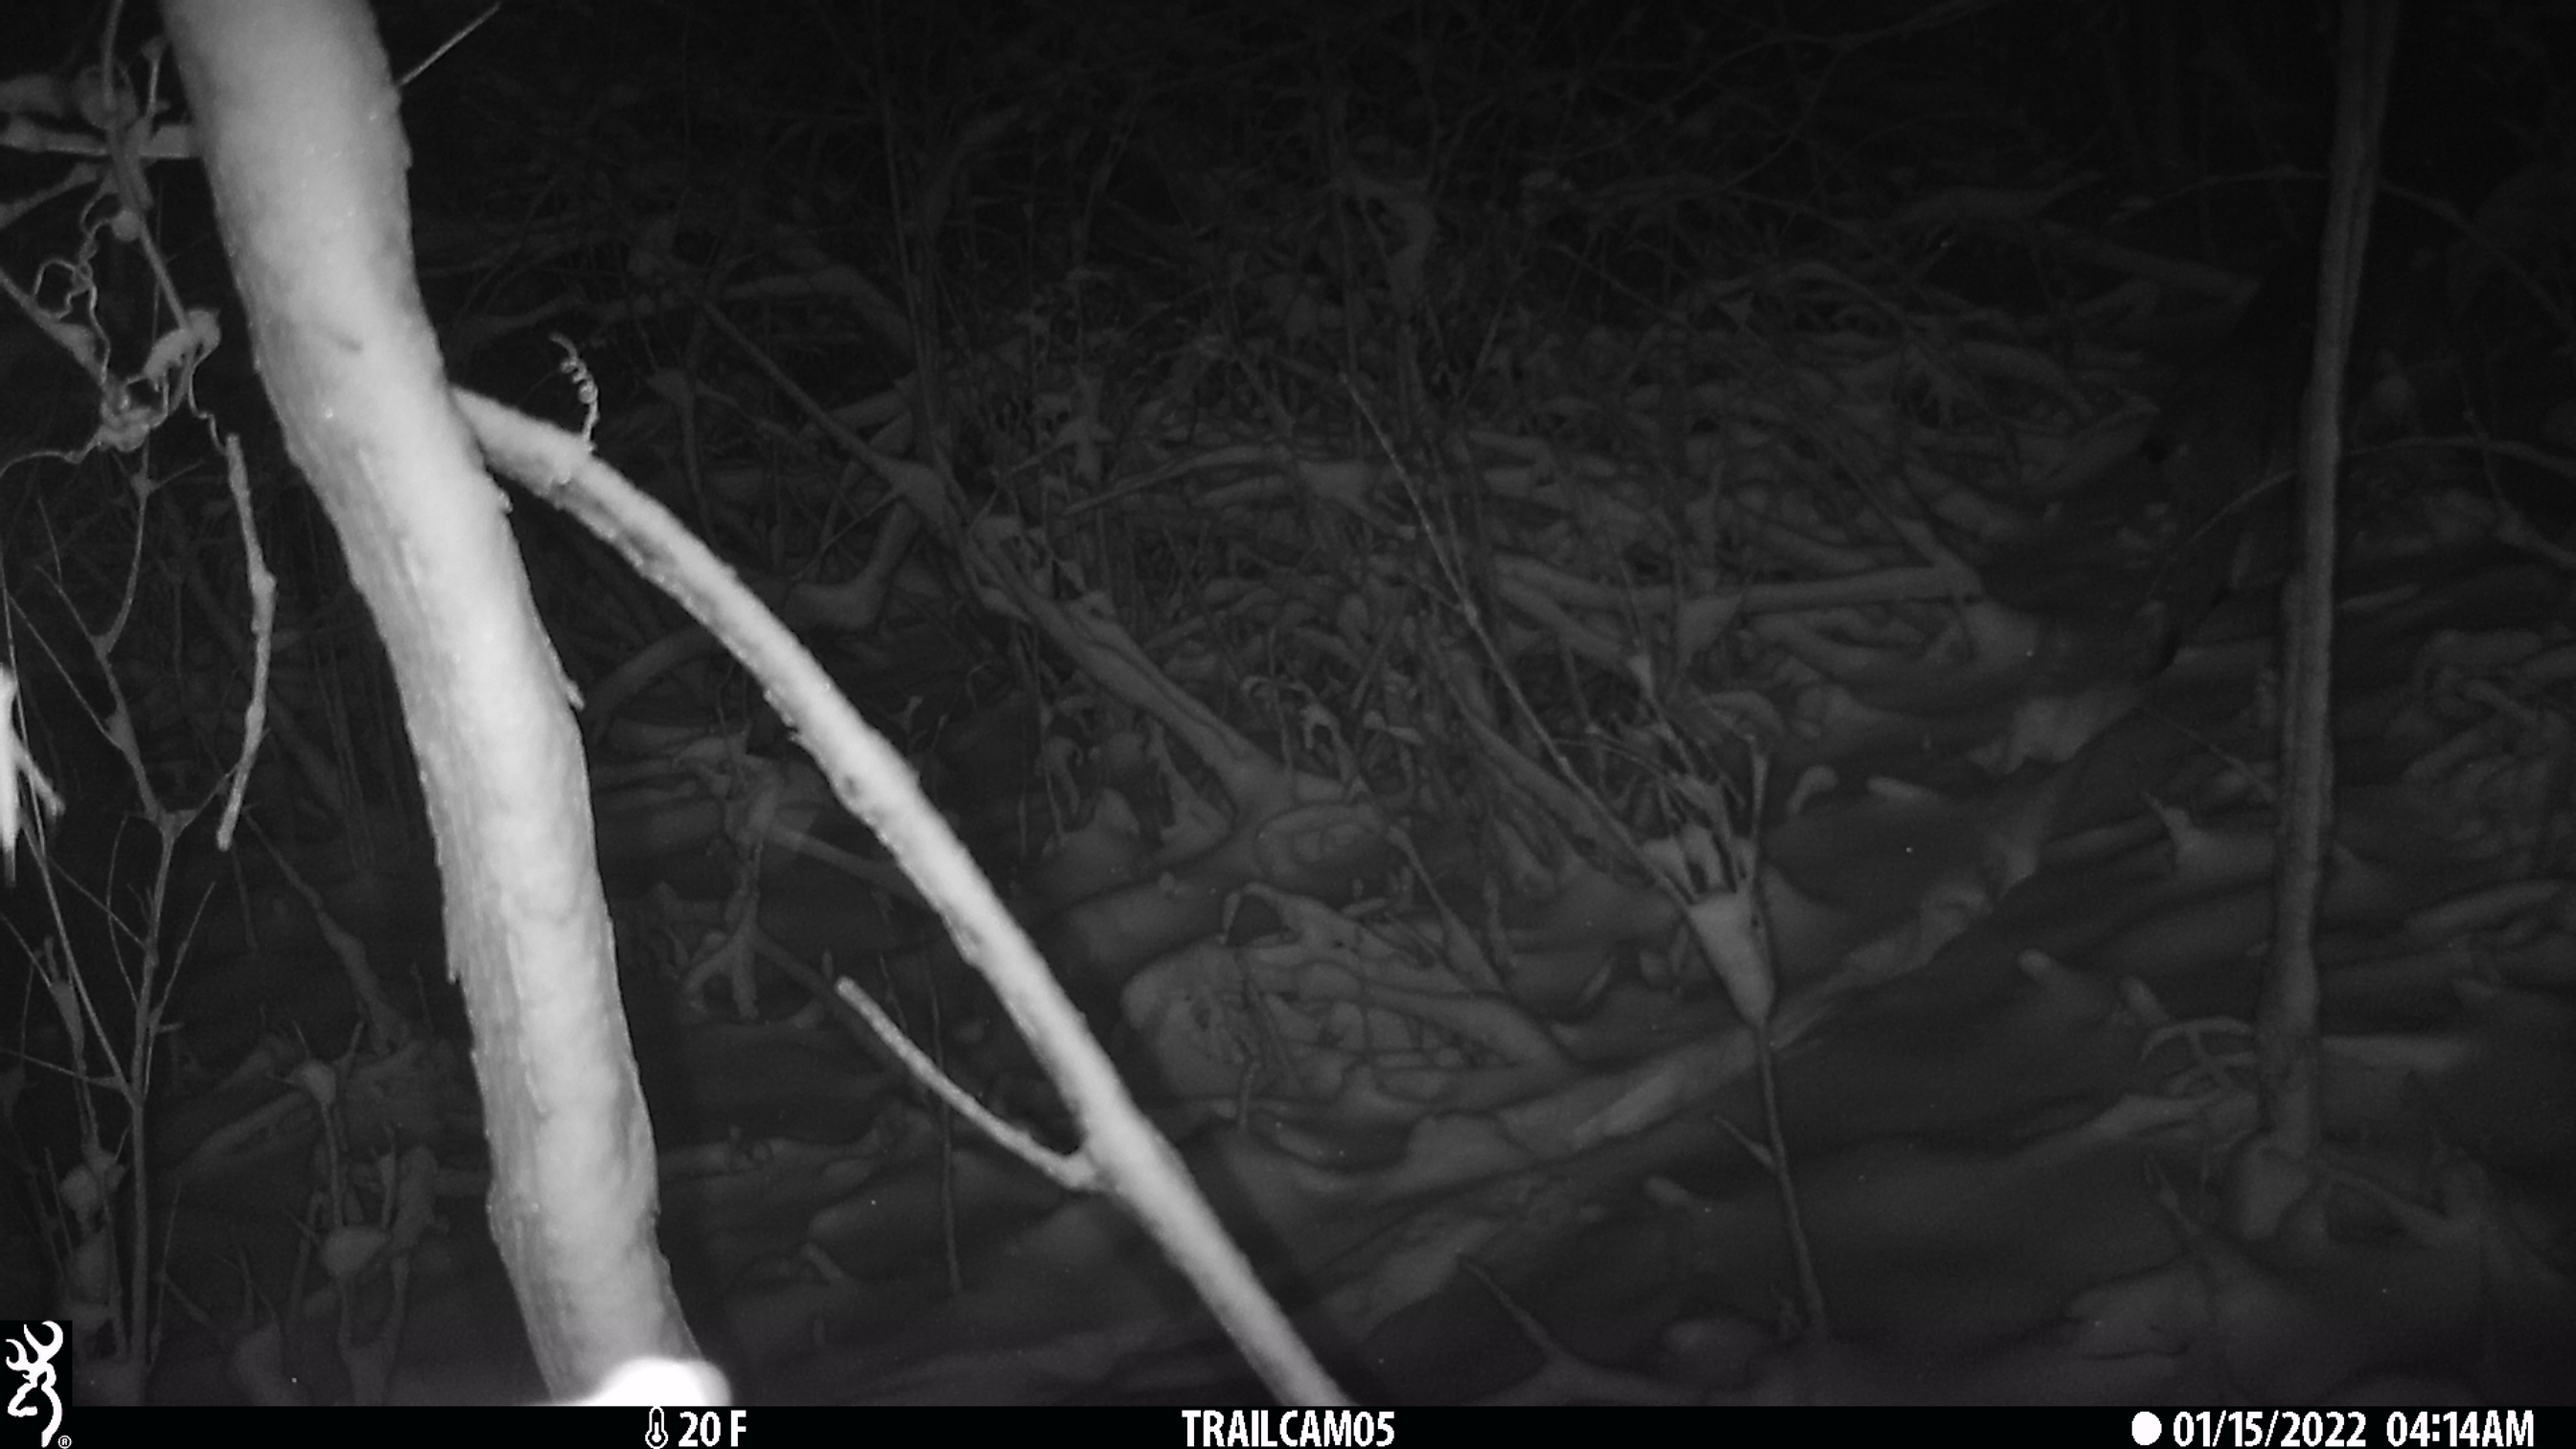Bobcat: (2128, 242, 2330, 681)
